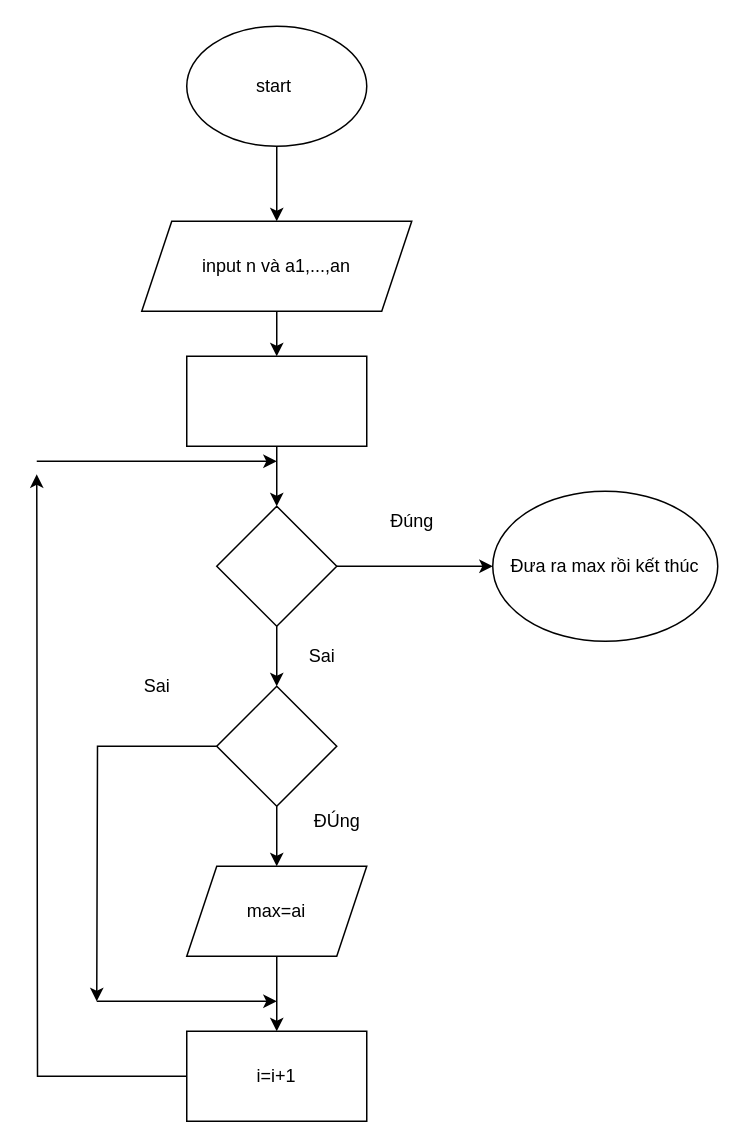
The diagram is 744 pixels wide and 1148 high, and some of its shapes have lost their labels. The centre of each missing label's shape, as x and y in pixels:
ai>max: the point at 276,745
i>n: the point at 276,565
Max = a1, i=0: the point at 276,400
